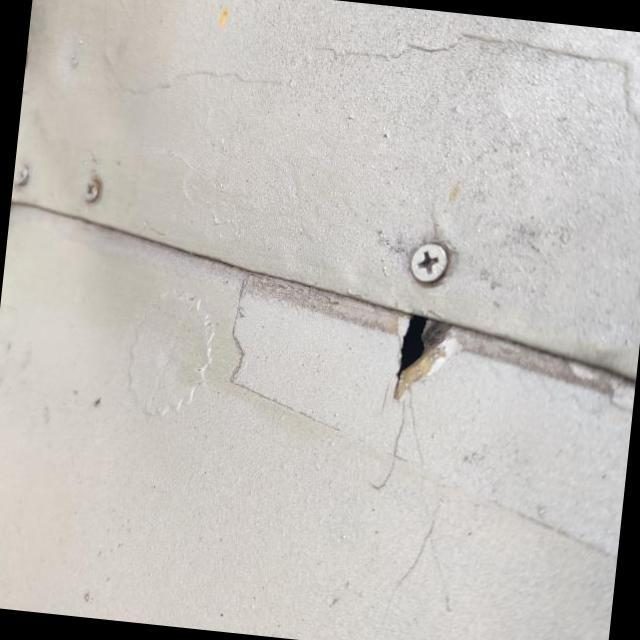Rupture: (353, 280, 492, 427)
